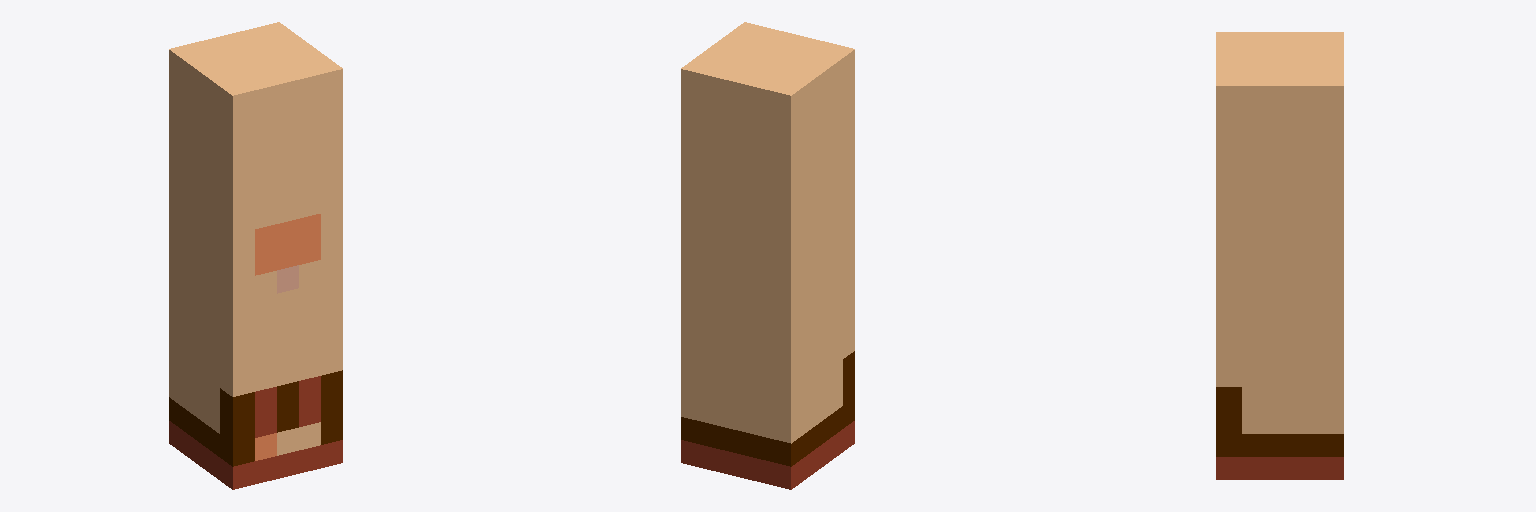
3 views of the same model, side by side, from view 1: azimuth 30°, elevation 25°; view 2: azimuth 150°, elevation 25°; view 3: azimuth 270°, elevation 25° (orthographic).
Visible parts, largest first — view 1: object 1; view 2: object 1; view 3: object 1.
Boxes of the visible parts, <box> form: object 1: <box>169,22,342,489</box>; object 1: <box>681,22,854,489</box>; object 1: <box>1216,32,1343,479</box>.
Bounding box in the file's own units: 0.5 × 1.7 × 0.5.
1 materials, 1 textured.